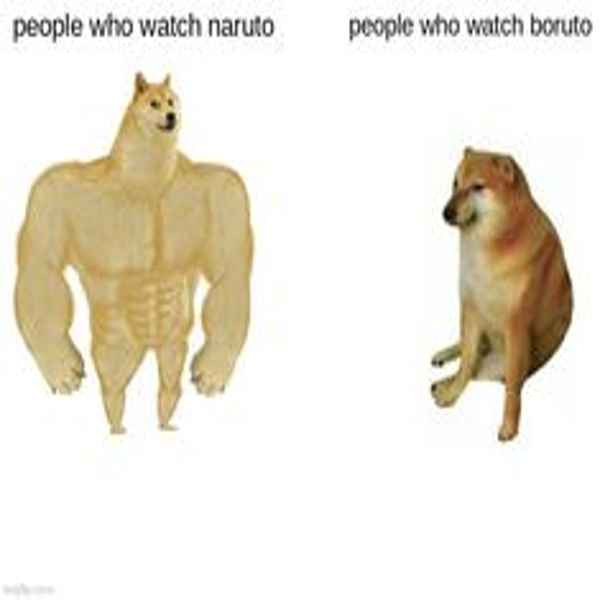doge: (442, 144, 537, 235), (132, 70, 189, 138)
